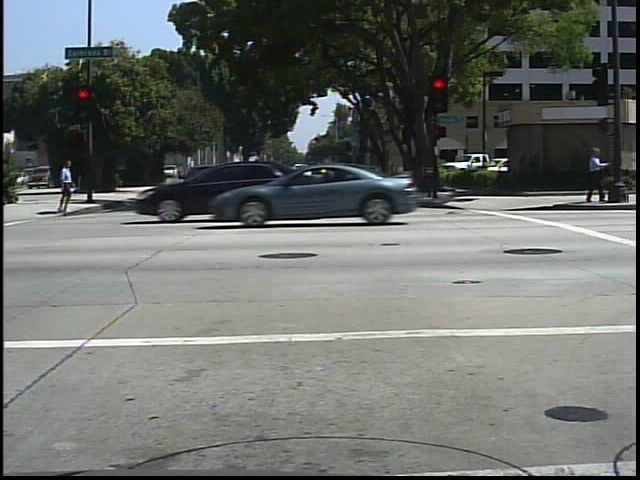person: (583, 144, 611, 208), (52, 157, 77, 216)
